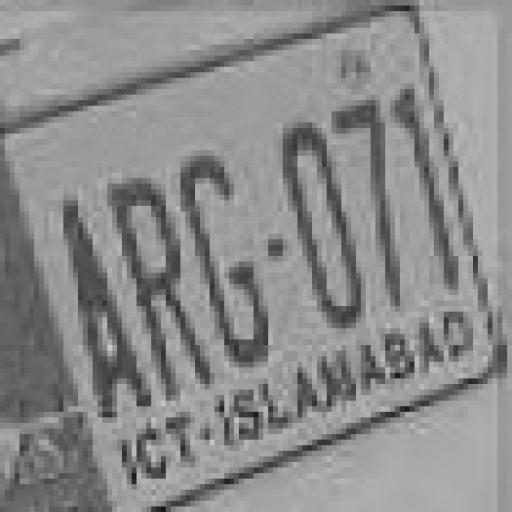0: (269, 130, 373, 335)
1: (390, 83, 451, 300)
7: (354, 93, 394, 326)
A: (58, 180, 126, 423)
G: (180, 149, 271, 373)
R: (123, 170, 183, 406)
